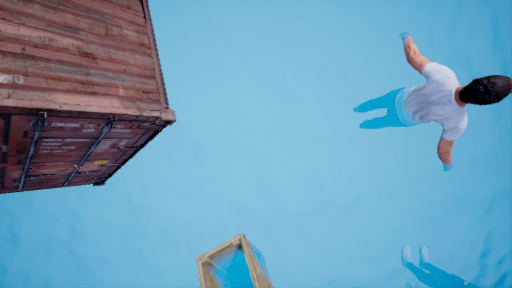person: (368, 34, 512, 172)
